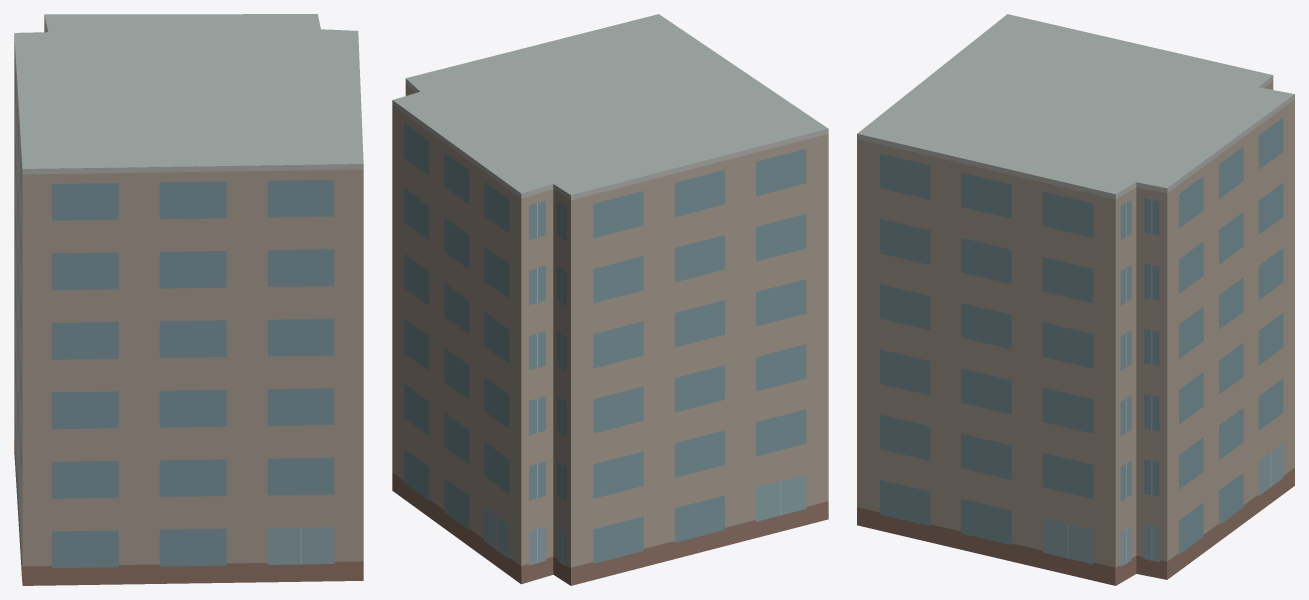
The model's file is survey-upis-32877641.glb.
The picture shows the model from 3 angles, left to right: view 1: azimuth 30°, elevation 25°; view 2: azimuth 150°, elevation 25°; view 3: azimuth 270°, elevation 25°; orthographic projection. The views are drawn at different scales.
Parts seen in each view (by area): view 1: survey-upis-32877641.tmp; view 2: survey-upis-32877641.tmp; view 3: survey-upis-32877641.tmp.
Boxes of the visible parts, bbox=[...] form: survey-upis-32877641.tmp: bbox=[14, 14, 363, 585]; survey-upis-32877641.tmp: bbox=[392, 14, 828, 585]; survey-upis-32877641.tmp: bbox=[857, 14, 1294, 585].
Bounding box in the file's own units: 18.28 × 18.5 × 18.75.
